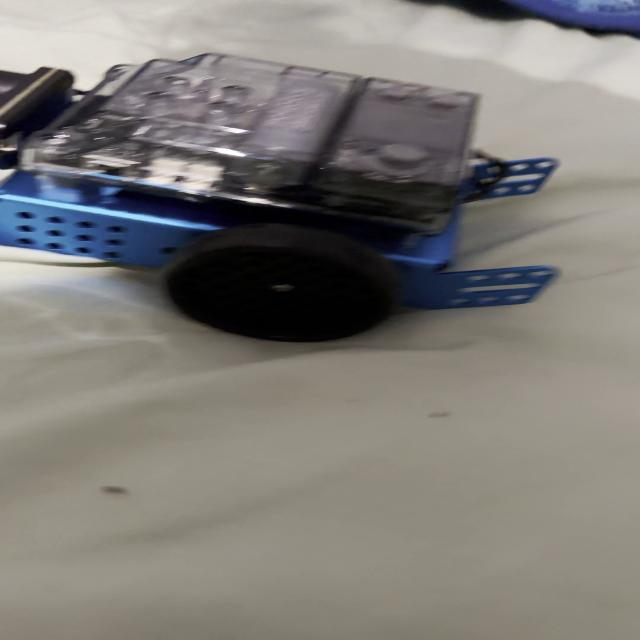mbot-detection: (0, 30, 578, 346)
